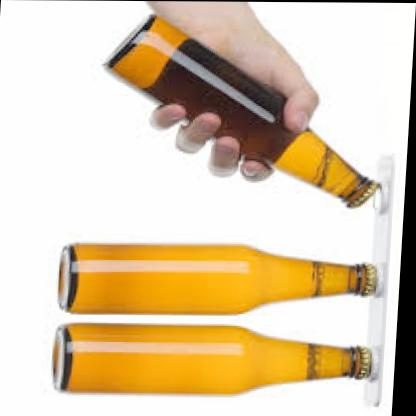Ceramic: (19, 28, 399, 416)
